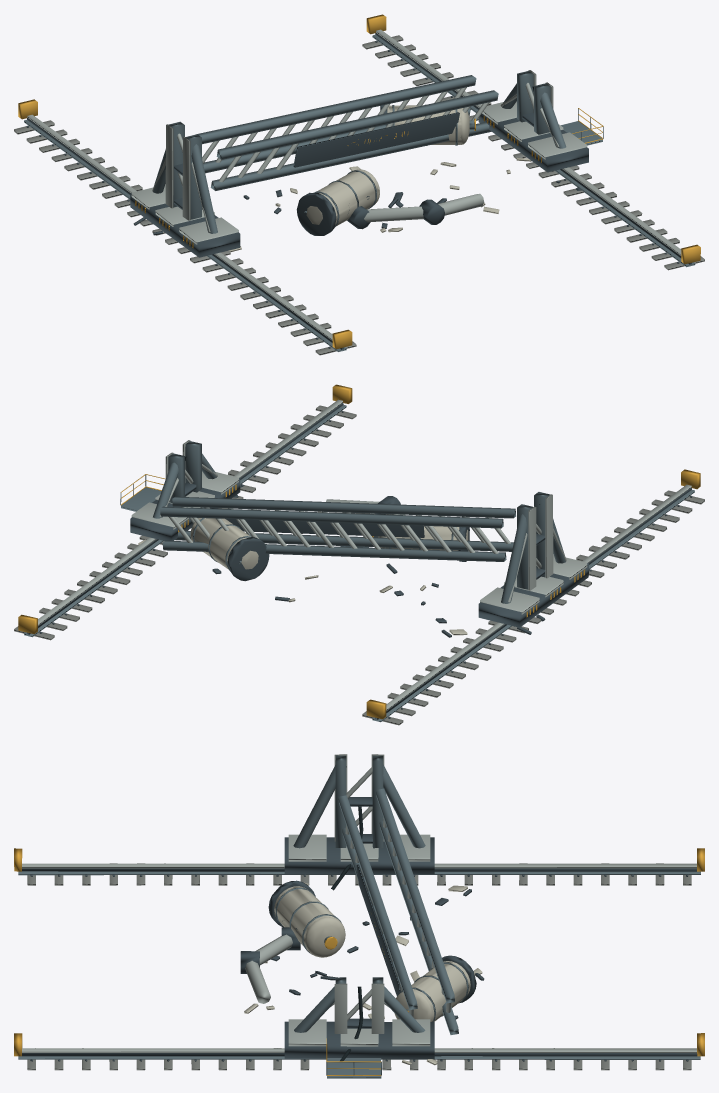
File: terraformer_3000_d3_lod1.meshopt.glb
The picture shows the model from 3 angles, top to bottom: view 1: azimuth 30°, elevation 25°; view 2: azimuth 150°, elevation 25°; view 3: azimuth 270°, elevation 25°; orthographic projection. The views are drawn at different scales.
Parts seen in each view (by area): view 1: TERRAFORMER_3000_LOD1_STATIC_GEOMETRY; view 2: TERRAFORMER_3000_LOD1_STATIC_GEOMETRY; view 3: TERRAFORMER_3000_LOD1_STATIC_GEOMETRY.
Boxes of the visible parts, x1,y1,x2,y2 form: TERRAFORMER_3000_LOD1_STATIC_GEOMETRY: (14,14,704,355); TERRAFORMER_3000_LOD1_STATIC_GEOMETRY: (14,384,704,725); TERRAFORMER_3000_LOD1_STATIC_GEOMETRY: (14,754,704,1078).
Size of the model in its own units: 39.27 by 9.54 by 50.59.
